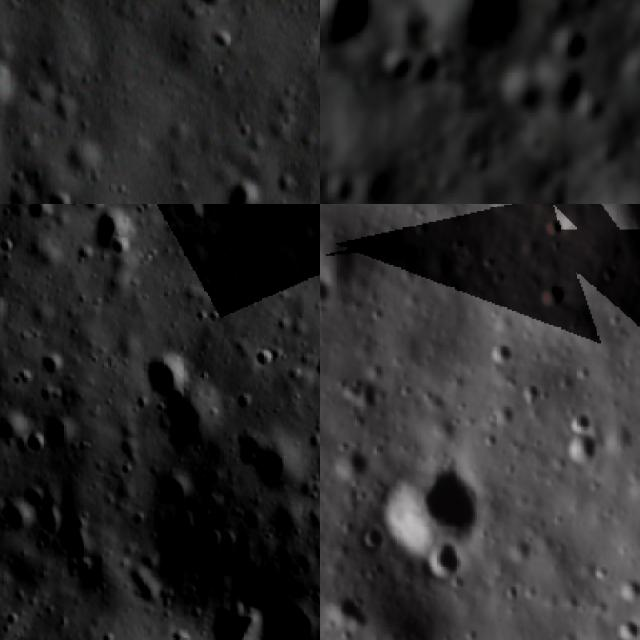crater: (375, 462, 486, 556), (238, 433, 307, 500), (436, 0, 530, 49), (538, 72, 602, 132), (158, 396, 224, 454), (496, 66, 556, 125), (87, 206, 143, 267), (596, 204, 640, 277), (320, 0, 379, 54), (134, 346, 184, 404), (548, 17, 594, 76), (338, 366, 389, 415), (326, 584, 372, 635), (555, 431, 606, 474), (422, 534, 471, 577), (379, 43, 421, 91), (33, 414, 75, 458), (0, 56, 24, 128), (560, 405, 607, 440), (162, 204, 218, 233), (532, 277, 572, 317), (334, 443, 371, 484), (195, 0, 246, 29), (18, 204, 60, 234), (486, 336, 521, 371), (611, 568, 640, 608), (226, 178, 269, 204), (542, 211, 571, 248), (612, 611, 640, 640), (37, 189, 88, 204), (320, 274, 331, 312), (455, 204, 486, 212)
